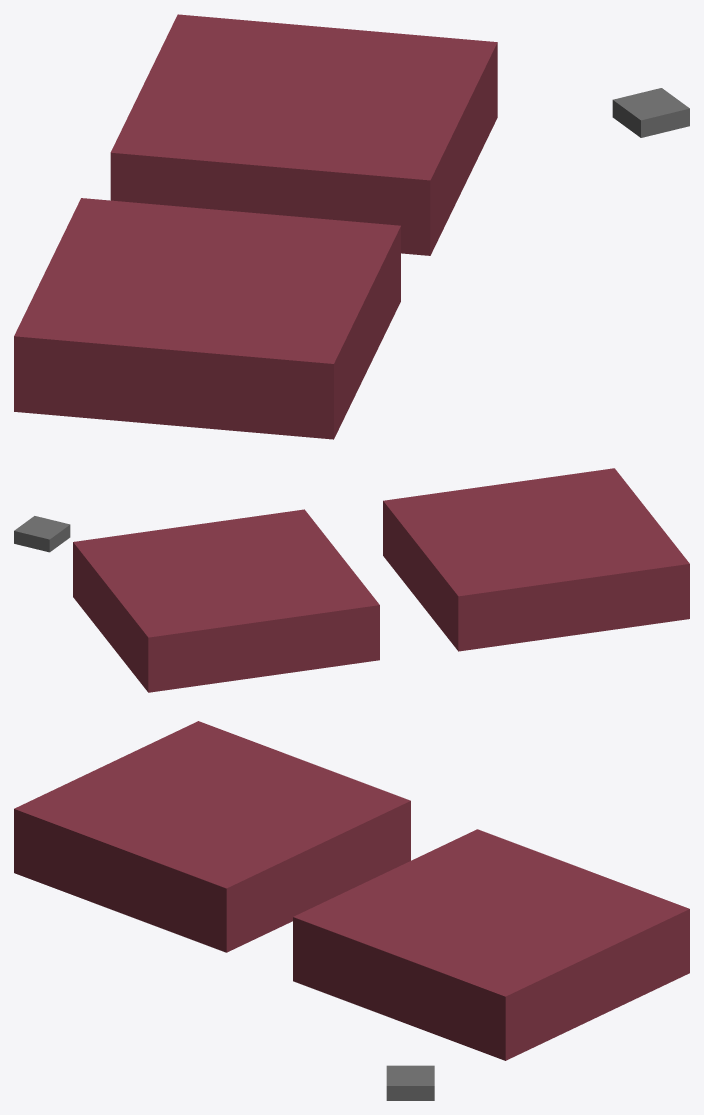
File: Garden object_1.fbx
The picture shows the model from 3 angles, top to bottom: view 1: azimuth 30°, elevation 25°; view 2: azimuth 150°, elevation 25°; view 3: azimuth 270°, elevation 25°; orthographic projection. The views are drawn at different scales.
Visible parts, largest first — view 1: ジョウロ; view 2: ジョウロ; view 3: ジョウロ.
Part boxes in pixels (<box>): ジョウロ: <box>14,14,689,439</box>; ジョウロ: <box>14,468,689,692</box>; ジョウロ: <box>14,721,689,1100</box>.
Size of the model in its own units: 32.11 by 2.95 by 28.09.
